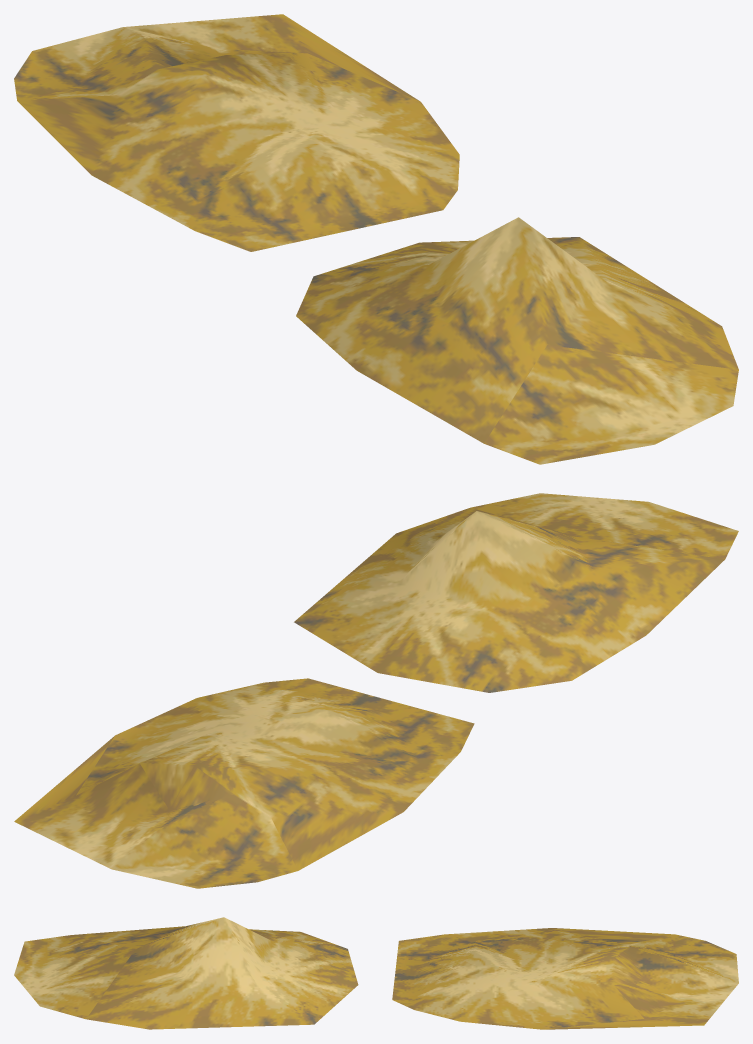
The model's file is BgMD_Mid_Desert_B_dune_tall.FBX.
3 views of the same model, one above another, from view 1: azimuth 30°, elevation 25°; view 2: azimuth 150°, elevation 25°; view 3: azimuth 270°, elevation 25° (orthographic). The views are drawn at different scales.
Visible parts, largest first — view 1: BgMD_Mid_Desert_B_dune_low, BgMD_Mid_Desert_B_dune_tall; view 2: BgMD_Mid_Desert_B_dune_low, BgMD_Mid_Desert_B_dune_tall; view 3: BgMD_Mid_Desert_B_dune_low, BgMD_Mid_Desert_B_dune_tall.
Boxes of the visible parts, left/top/right/bottom form: BgMD_Mid_Desert_B_dune_low: left=14, top=14, right=459, bottom=251; BgMD_Mid_Desert_B_dune_tall: left=296, top=217, right=738, bottom=464; BgMD_Mid_Desert_B_dune_low: left=14, top=678, right=474, bottom=888; BgMD_Mid_Desert_B_dune_tall: left=294, top=493, right=738, bottom=692; BgMD_Mid_Desert_B_dune_low: left=392, top=928, right=738, bottom=1029; BgMD_Mid_Desert_B_dune_tall: left=14, top=917, right=358, bottom=1029.
Bounding box in the file's own units: 1571 × 477 × 4723.
